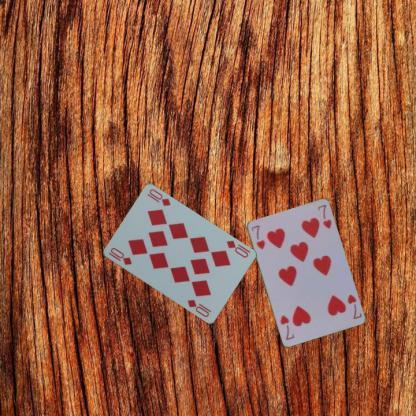10d: (105, 244, 133, 266), (224, 238, 249, 260)
7h: (248, 222, 266, 251), (344, 291, 362, 320)
